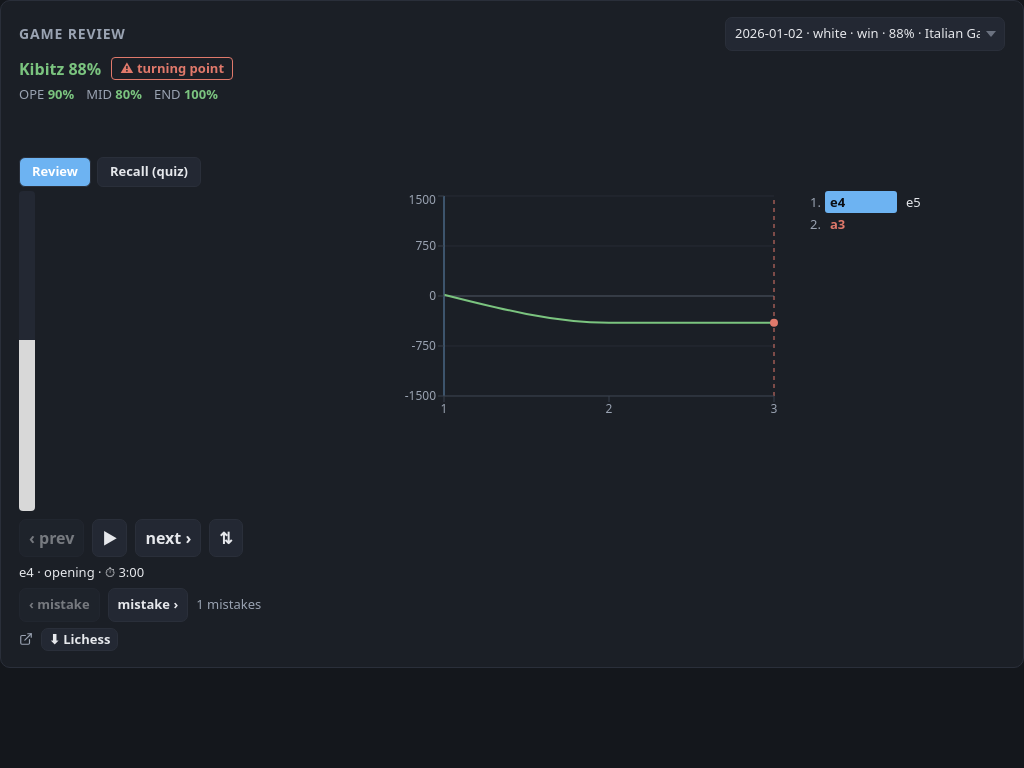
Test case: GameReview › jumps to the turning point when its button is clicked
Click the button "⚠ turning point": (172, 69) [111,57,233,80]
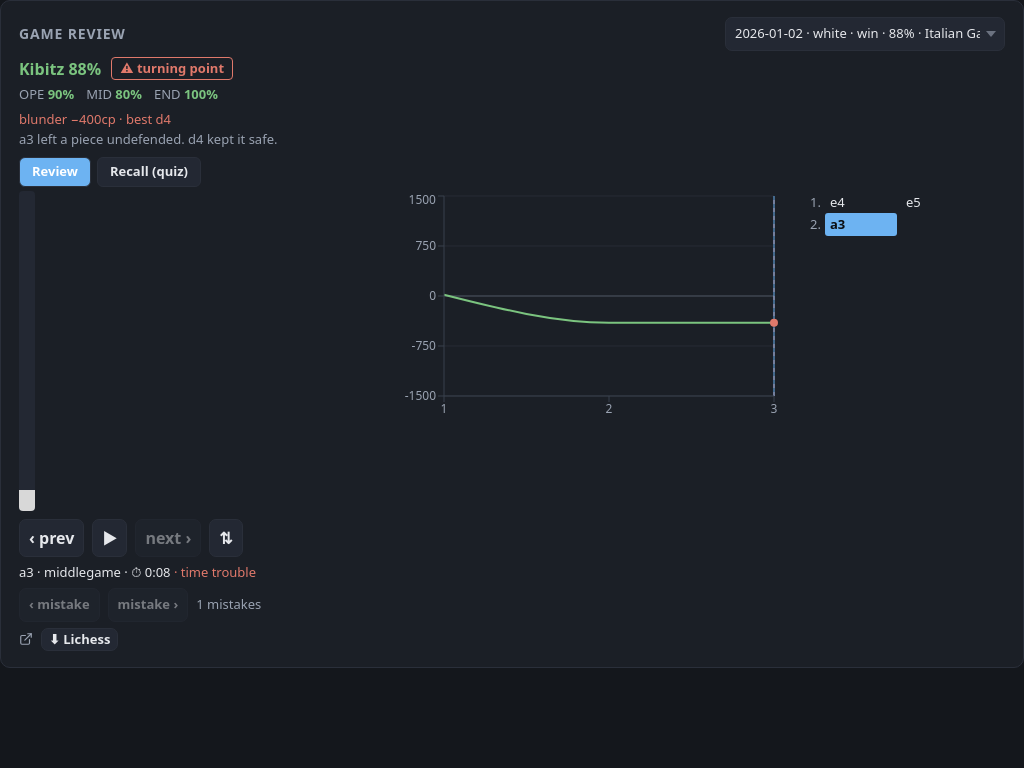
Check: the text "blunder −400cp · best d4" is shown, box [19,110,171,128]
